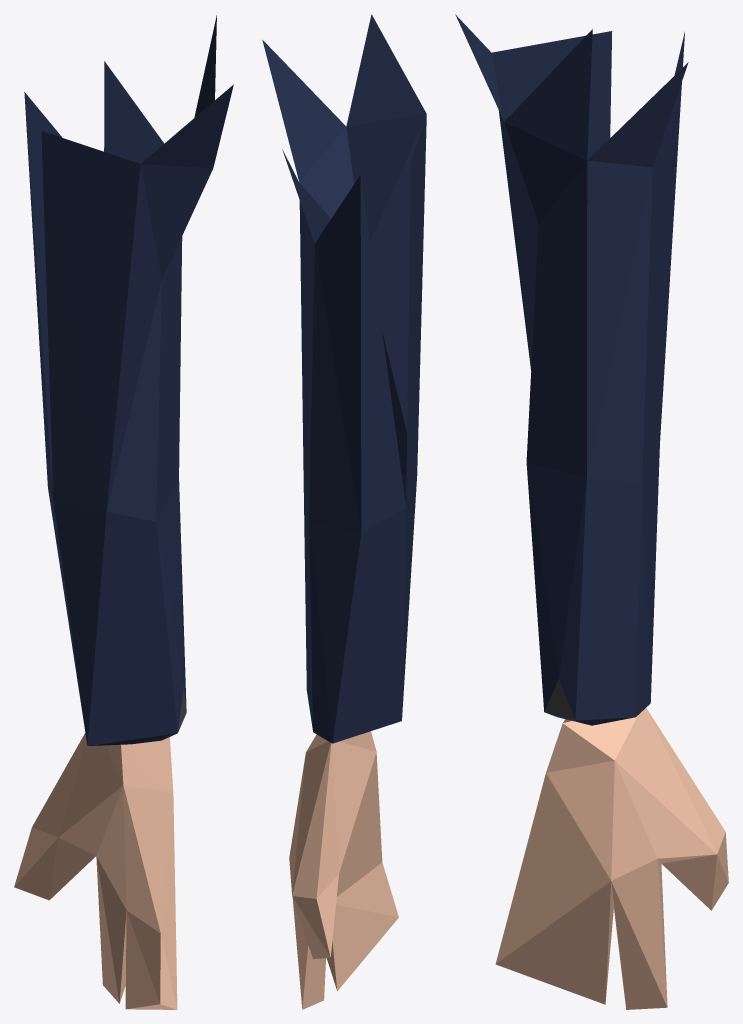
Rendered from ArmR_Lo.obj.
The picture shows the model from 3 angles, left to right: view 1: azimuth 30°, elevation 25°; view 2: azimuth 150°, elevation 25°; view 3: azimuth 270°, elevation 25°; orthographic projection. The views are drawn at different scales.
Size of the model in its own units: 0.1579 by 0.8916 by 0.2164.
1 material, 1 textured.
